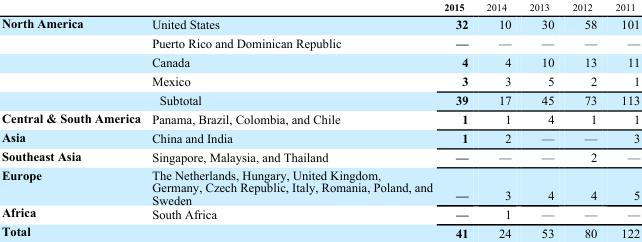table: (0, 0, 639, 239)
table column: (145, 0, 437, 239), (0, 0, 145, 239), (476, 0, 519, 239), (519, 0, 562, 239), (562, 0, 605, 239), (437, 0, 476, 239), (605, 0, 639, 239)
table column header: (0, 0, 639, 13)
table row: (0, 165, 639, 205), (0, 13, 639, 33), (0, 33, 639, 52), (0, 52, 639, 71), (0, 71, 639, 90), (0, 108, 639, 127), (0, 127, 639, 146), (0, 146, 639, 165), (0, 90, 639, 108), (0, 205, 639, 222), (0, 222, 639, 239), (0, 0, 639, 13)
table spanning cell: (0, 13, 145, 108)
